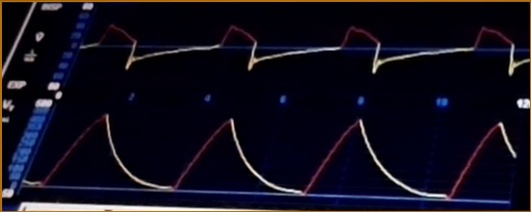Normal Flow: (80, 15, 530, 76)
Normal Volume: (50, 107, 516, 202)
